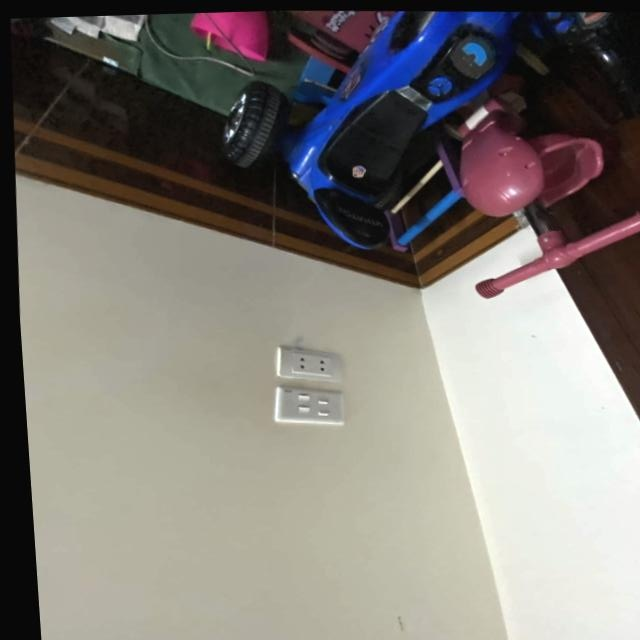outlet: (276, 343, 345, 384)
